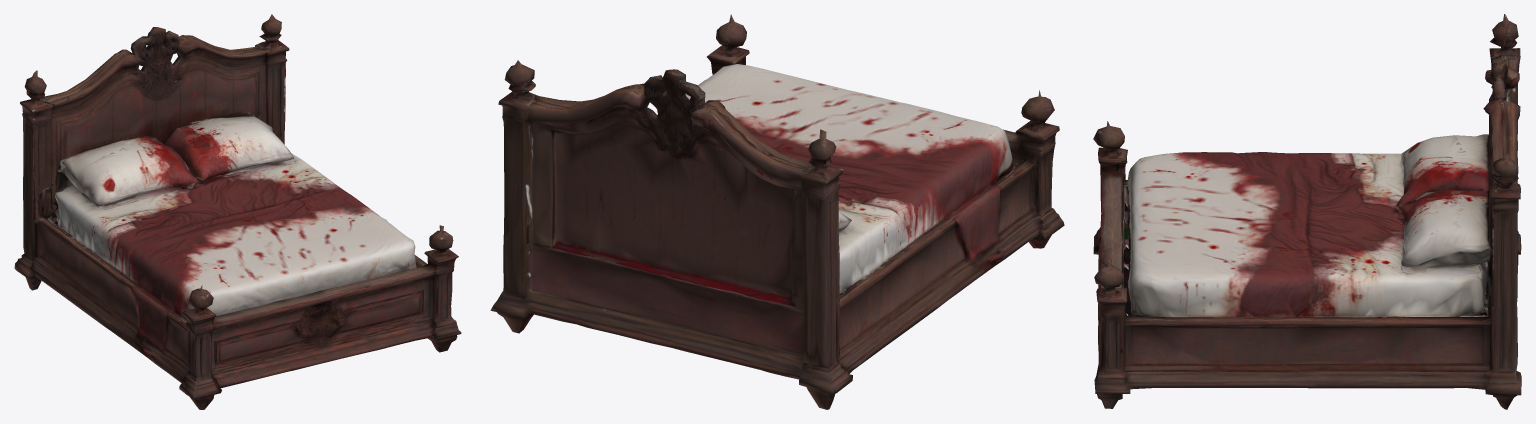
File: wooden_big_bed_torn__0812081444_texture.glb
3 views of the same model, side by side, from view 1: azimuth 30°, elevation 25°; view 2: azimuth 150°, elevation 25°; view 3: azimuth 270°, elevation 25° (orthographic). The views are drawn at different scales.
Parts seen in each view (by area): view 1: input; view 2: input; view 3: input.
Boxes of the visible parts, bbox=[...] form: input: bbox=[14, 14, 461, 409]; input: bbox=[490, 14, 1064, 409]; input: bbox=[1093, 14, 1521, 409].
Bounding box in the file's own units: 1.72 × 1.43 × 2.
1 material, 1 textured.
